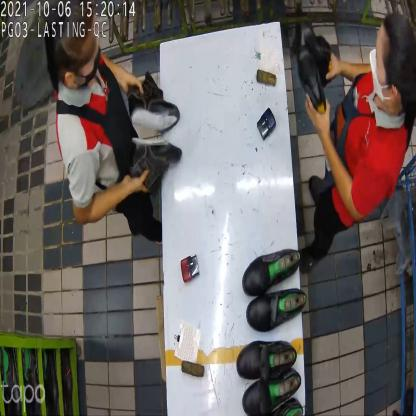shoes: (125, 72, 189, 185), (232, 338, 306, 416), (242, 250, 306, 330), (294, 26, 332, 121)
stamp: (257, 105, 276, 140), (182, 252, 200, 284)
